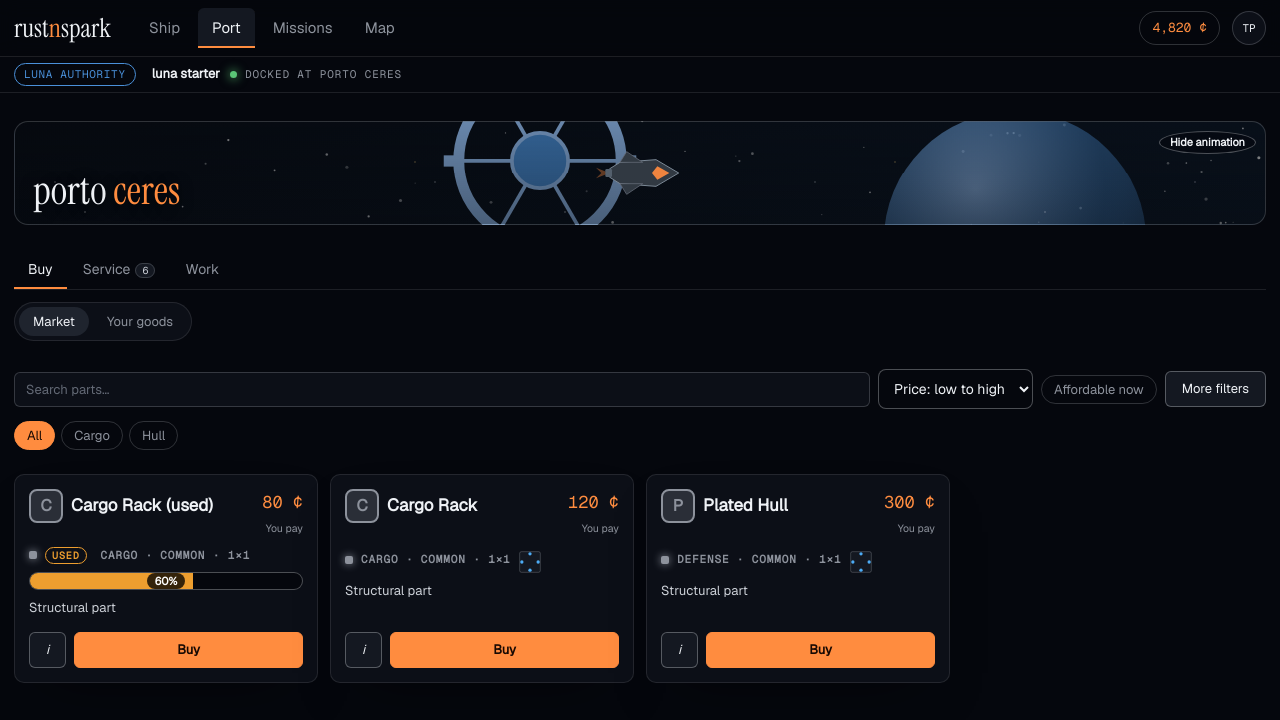
Test: port (S10.9) › buys a listing behind the confirmation popup and updates the wallet
expect the tab "Market" is shown: met, box [19,307,89,336]
expect the text with test id "topbar-wallet" reads "4,820 ¢": met, box [1152,19,1207,36]
Click the button "Buy" below "Defense · Common · 1×1" at (821, 650), box [706,632,935,668]
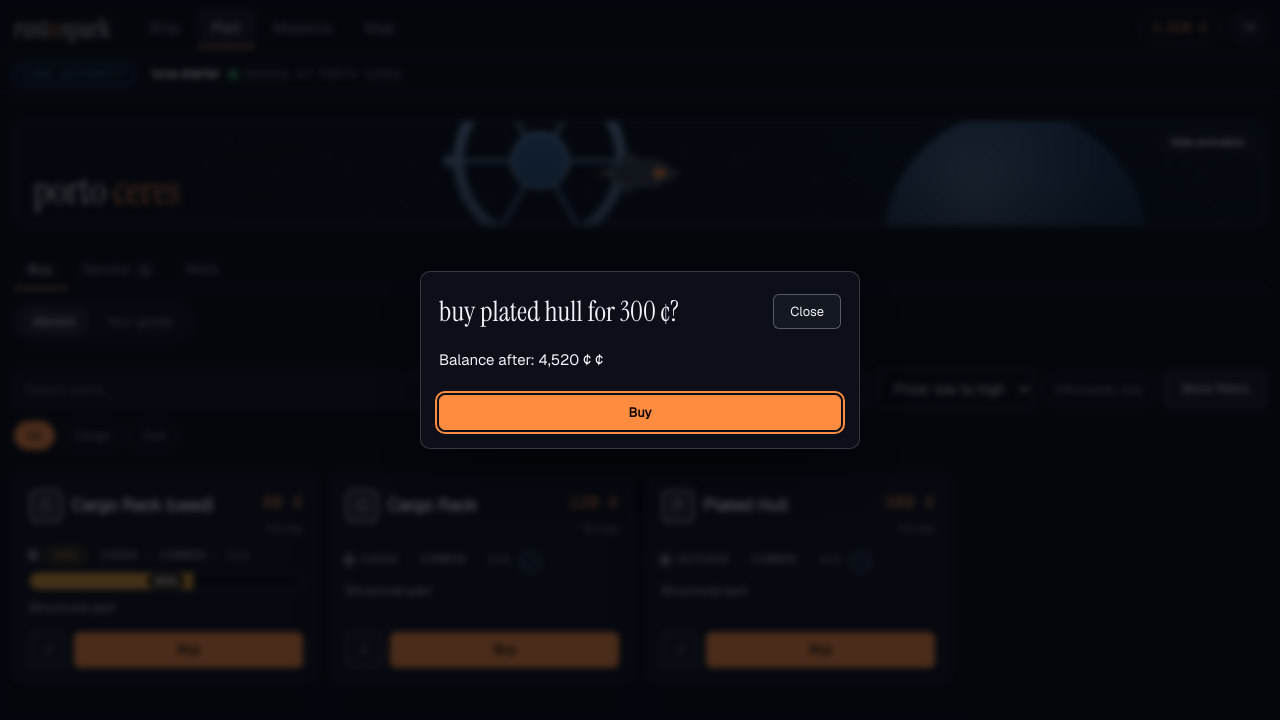
expect the dialog "Buy Plated Hull for 300 ¢?" shows "Balance after: 4,520 ¢": met, box [439,350,603,369]
Click the button "Buy" at (640, 412), box [439,394,841,430]
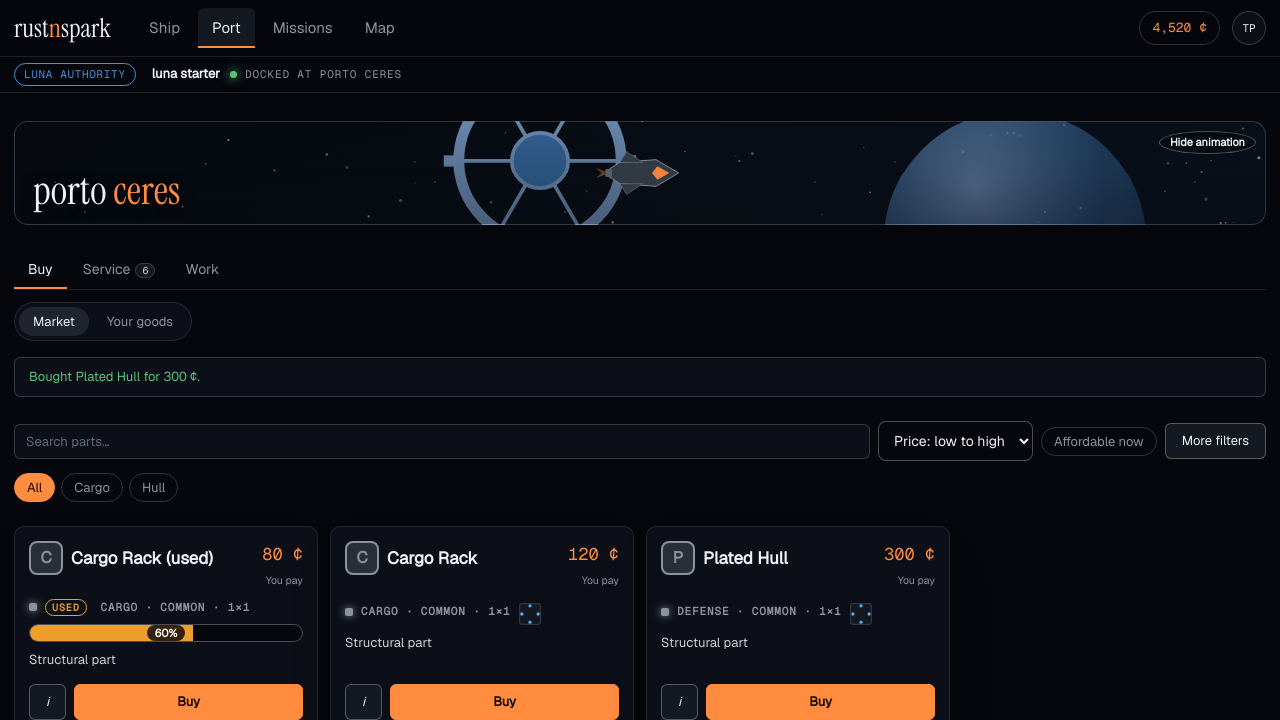
expect the message reads "Bought Plated Hull for 300 ¢.": met, box [29,368,200,385]
expect the text with test id "topbar-wallet" reads "4,520 ¢": met, box [1152,19,1207,36]
